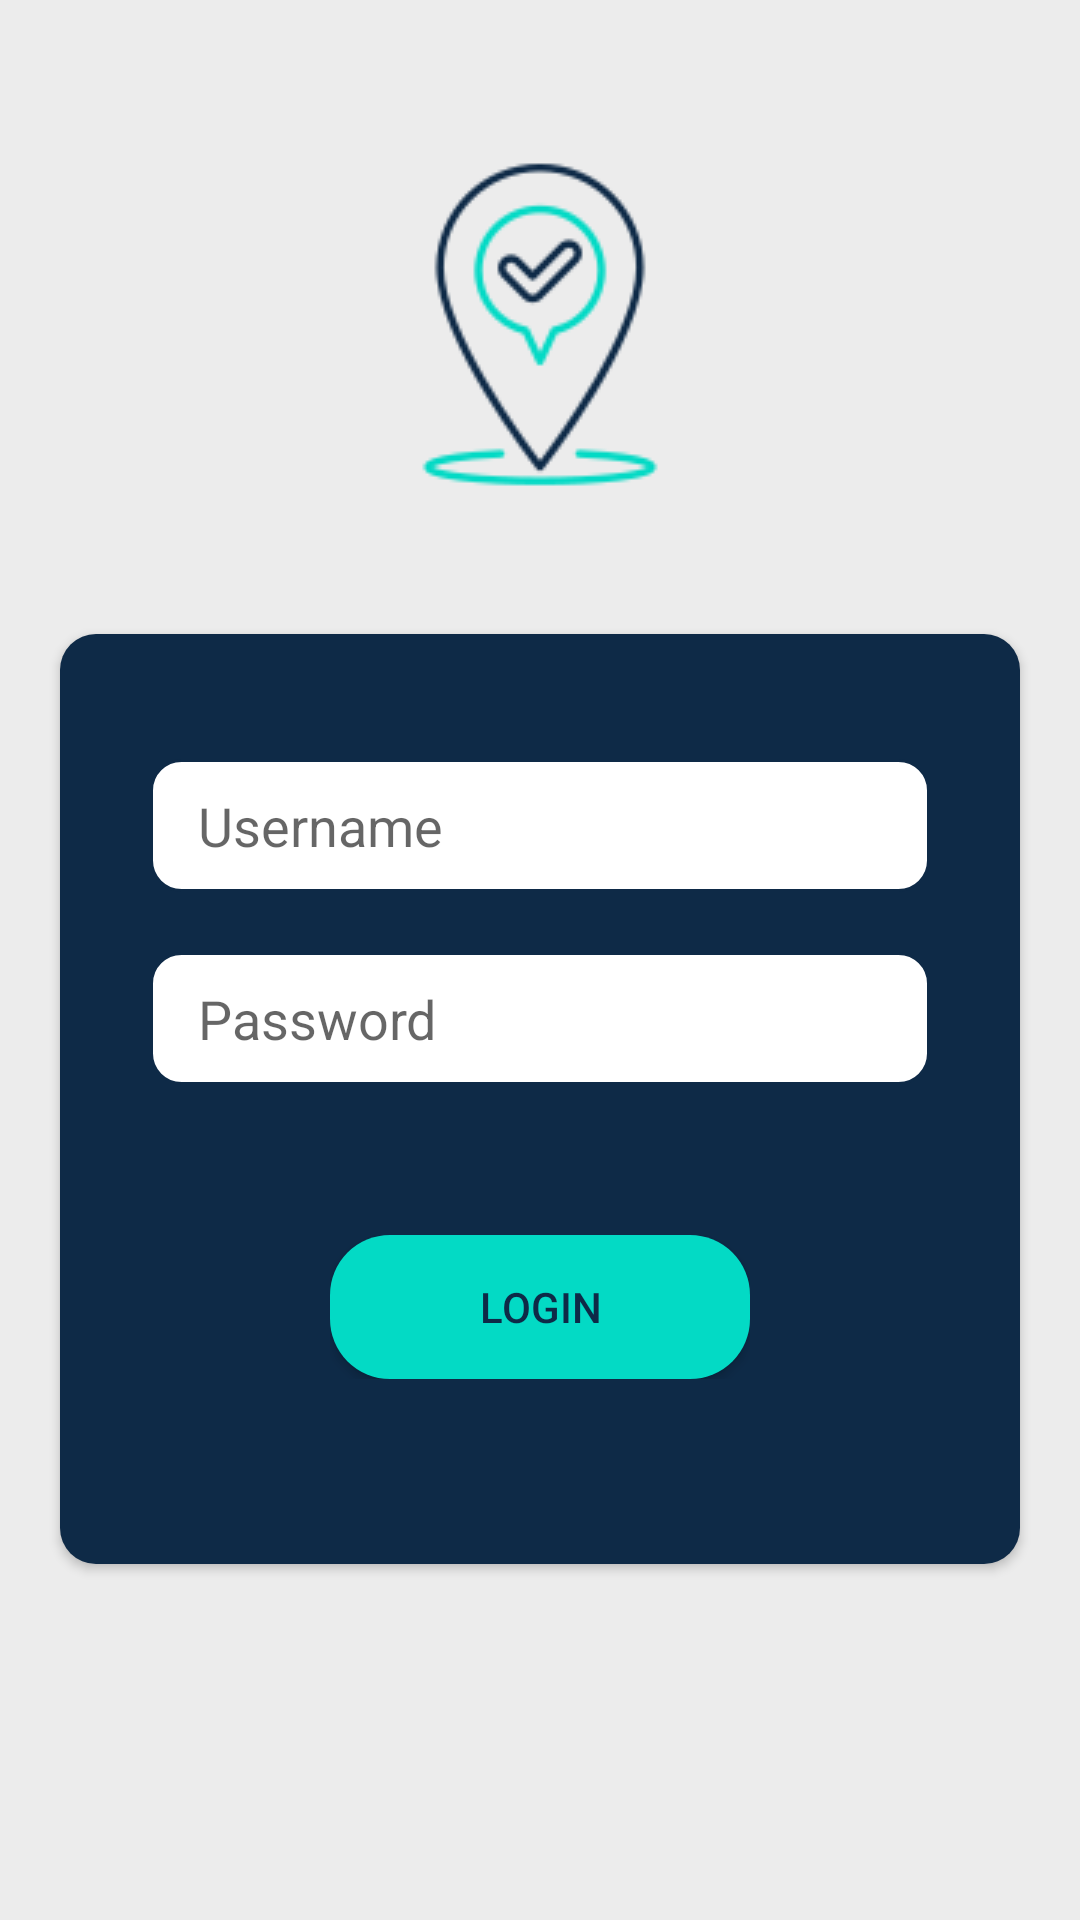

Locate icon controls on the screen. Image size 1080x1920, boxes as [x1, y1, x2, y2].
geotag: [422, 163, 658, 486]
